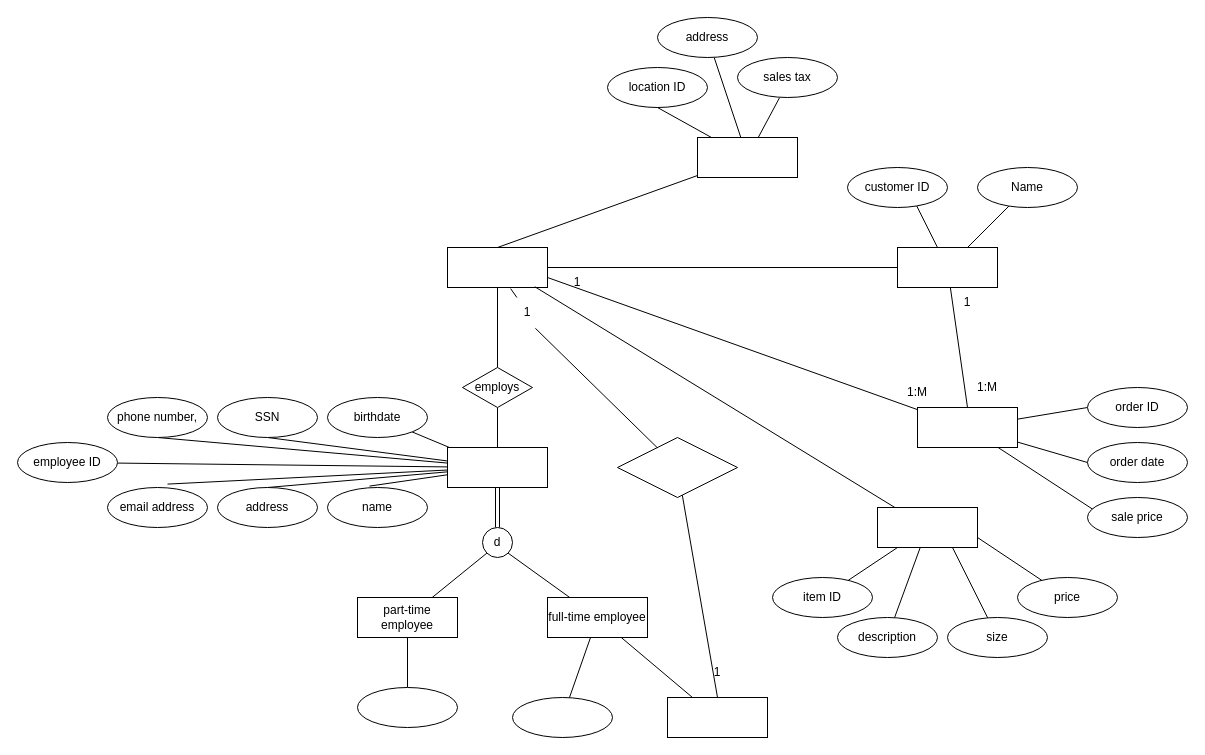
Image size: 1205x755. Some labels were removed from this diagram. Each missing label, with the box of its shape:
annual salary: (512, 696, 612, 738)
Branches: (446, 246, 548, 288)
Customer: (896, 246, 998, 288)
Employee: (446, 446, 548, 488)
hourly rate: (356, 686, 458, 728)
Manager: (666, 696, 768, 738)
manages: (616, 436, 738, 498)
Menu: (876, 506, 978, 548)
order: (916, 406, 1018, 448)
Ronald’s Restaurant: (696, 136, 798, 178)
